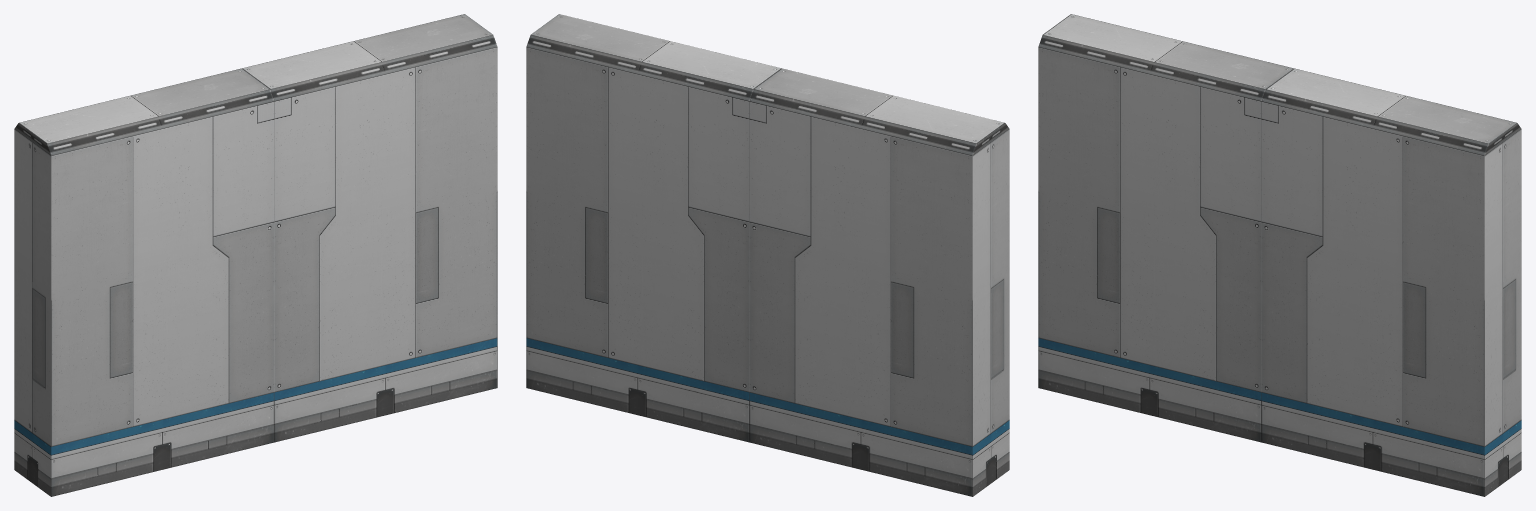
The model's file is Ext_Wall_Half_01.FBX.
3 views of the same model, side by side, from view 1: azimuth 30°, elevation 25°; view 2: azimuth 150°, elevation 25°; view 3: azimuth 330°, elevation 25° (orthographic).
Parts seen in each view (by area): view 1: Ext_Wall_Half_01; view 2: Ext_Wall_Half_01; view 3: Ext_Wall_Half_01.
Part boxes in pixels (x1=…): Ext_Wall_Half_01: x1=14, y1=14, x2=497, y2=496; Ext_Wall_Half_01: x1=526, y1=14, x2=1009, y2=496; Ext_Wall_Half_01: x1=1038, y1=14, x2=1521, y2=496.
Bounding box in the file's own units: 560 × 420 × 79.8.
